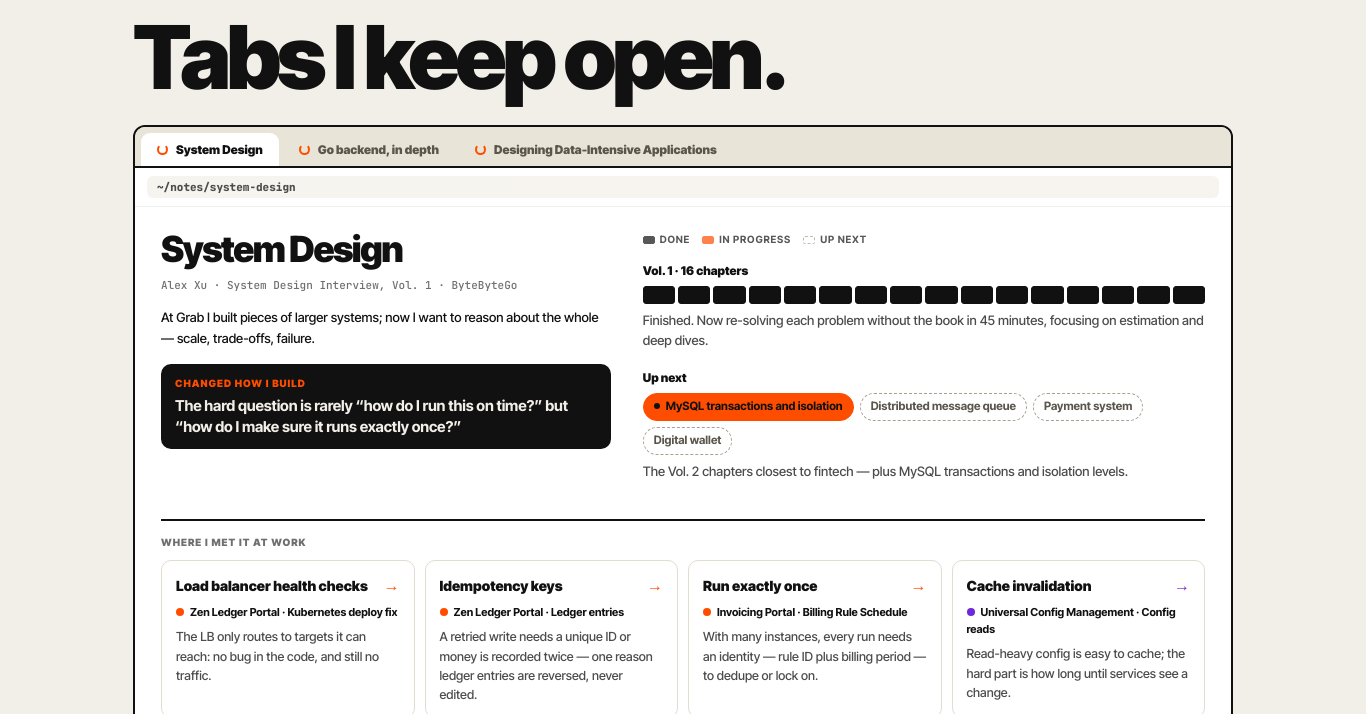
it: reduced motion swaps instantly
The width and height of the screenshot is (1366, 714).
Click the tab "Go backend, in depth" at (369, 150), box 283,133 -> 455,166
(page scrolled)
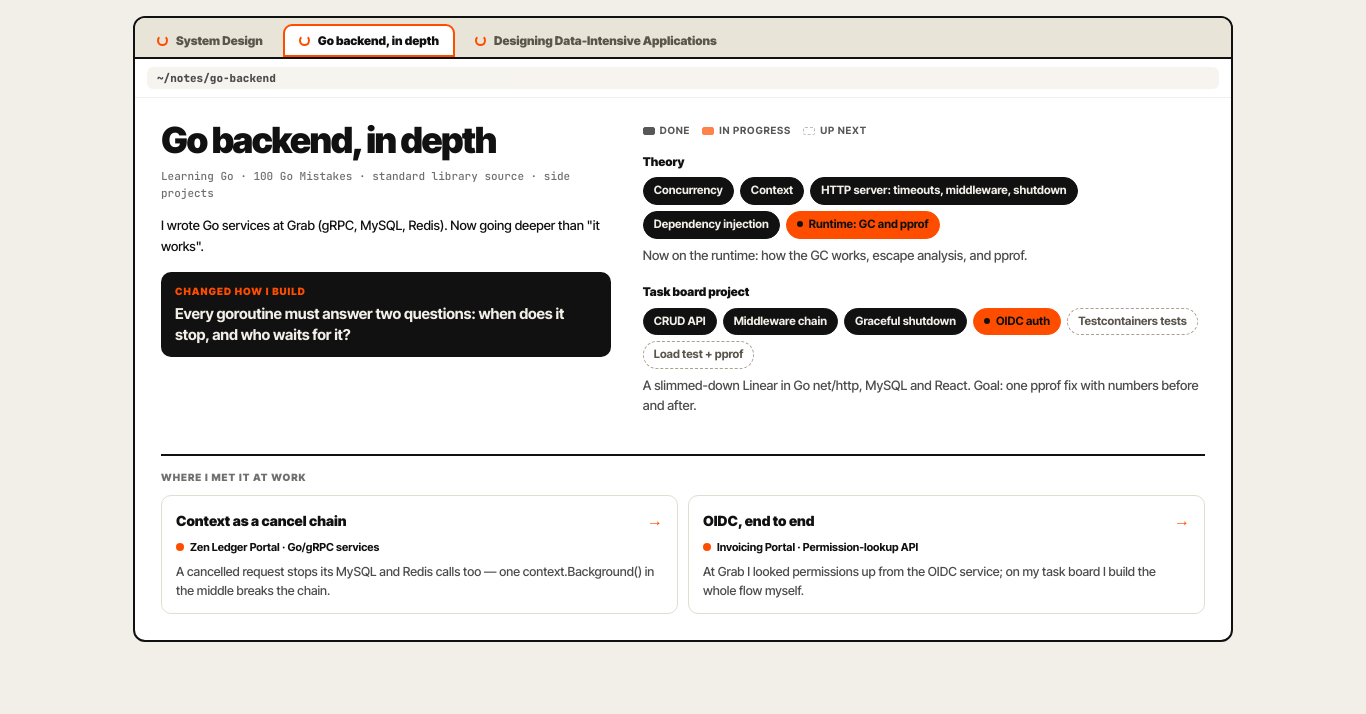
Check: the panel shows "I wrote Go services", box 161,218 -> 600,254
